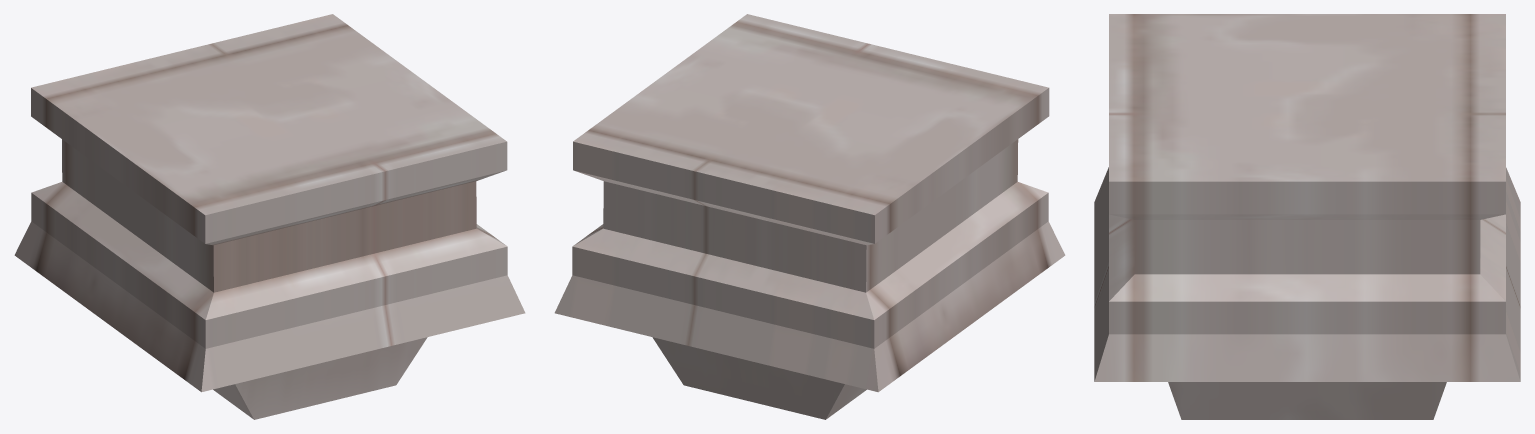
The model's file is cube_sky2.fbx.
3 views of the same model, side by side, from view 1: azimuth 30°, elevation 25°; view 2: azimuth 150°, elevation 25°; view 3: azimuth 270°, elevation 25° (orthographic). The views are drawn at different scales.
Parts seen in each view (by area): view 1: Cube_Sky:Cube_Sky122; view 2: Cube_Sky:Cube_Sky122; view 3: Cube_Sky:Cube_Sky122.
Boxes of the visible parts, x1,y1,x2,y2 form: Cube_Sky:Cube_Sky122: (14,14,525,419); Cube_Sky:Cube_Sky122: (554,14,1065,419); Cube_Sky:Cube_Sky122: (1094,14,1520,419).
Bounding box in the file's own units: 1.07 × 0.7842 × 1.07.
1 material, 1 textured.
